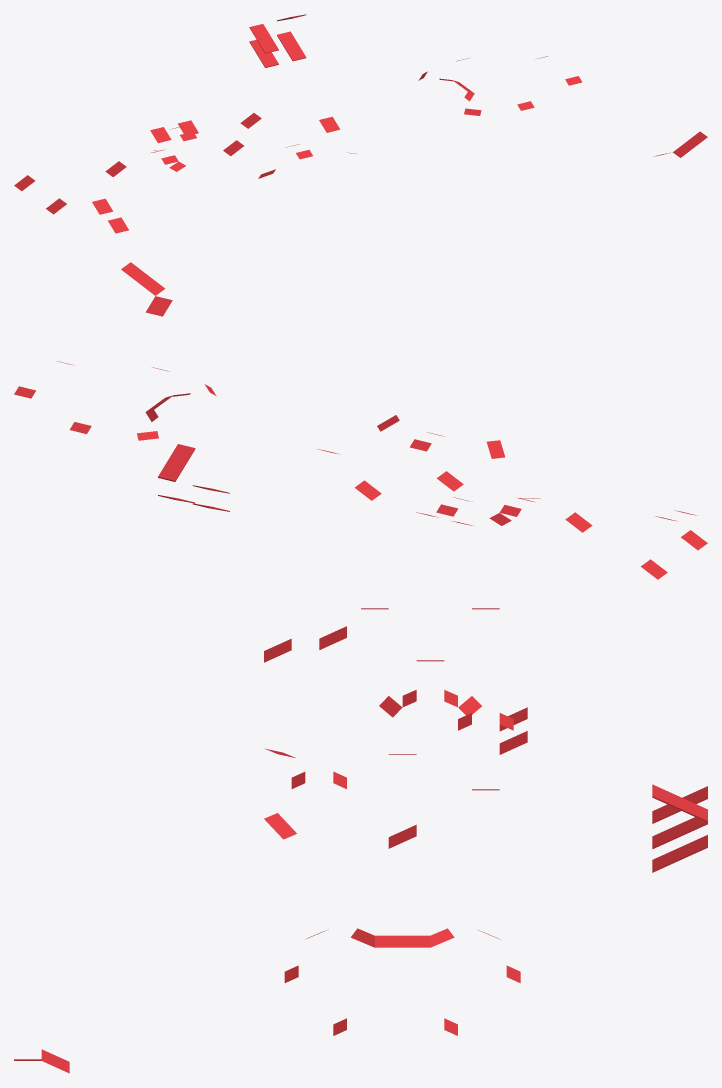
Rendered from Encounter_001_Stairs.fbx.
3 renders of one model, top to bottom at view 1: azimuth 30°, elevation 25°; view 2: azimuth 150°, elevation 25°; view 3: azimuth 270°, elevation 25°, orthographic. The views are drawn at different scales.
Visible parts, largest first — view 1: Encounter_001_Stairs; view 2: Encounter_001_Stairs; view 3: Encounter_001_Stairs.
Part boxes in pixels (x1,y1,x2,y2): Encounter_001_Stairs: (14,14,707,233); Encounter_001_Stairs: (14,262,707,579); Encounter_001_Stairs: (14,608,707,1073).
Bounding box in the file's own units: 16200 × 1800 × 10000.
